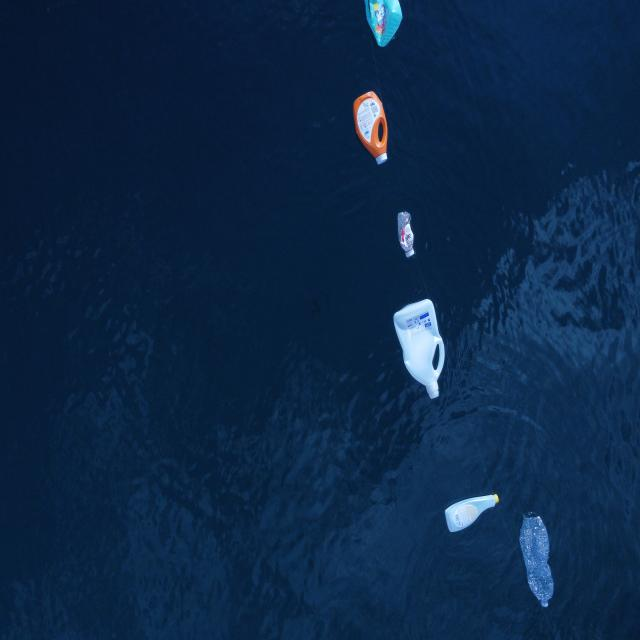bottles: (393, 297, 446, 400), (518, 511, 555, 608), (352, 90, 390, 167), (444, 493, 499, 532), (363, 0, 405, 50), (396, 210, 416, 259)
